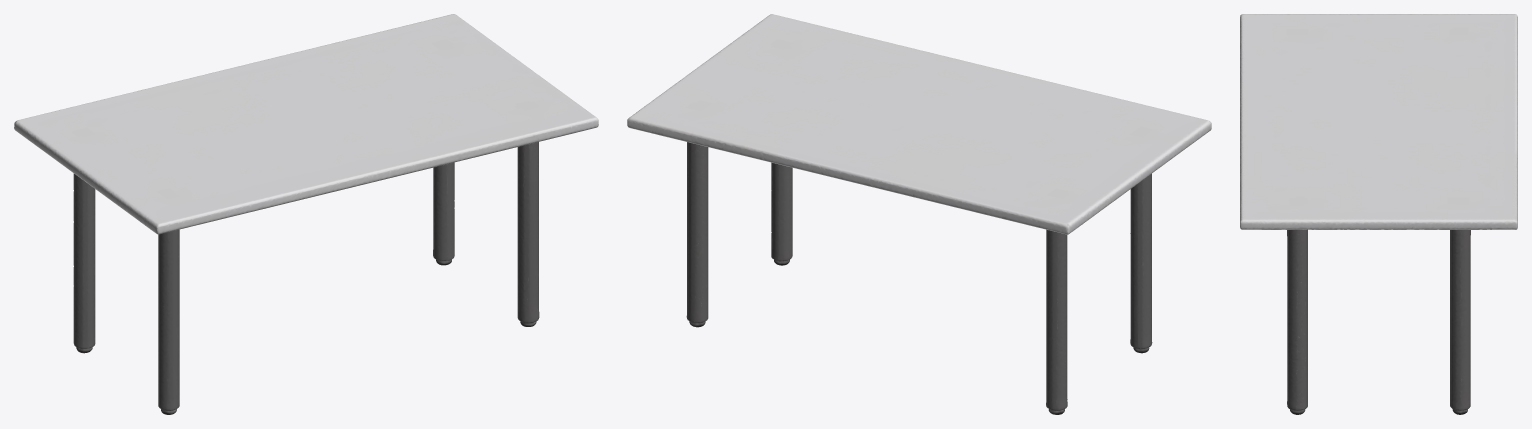
File: desk2.glb
3 renders of one model, left to right at view 1: azimuth 30°, elevation 25°; view 2: azimuth 150°, elevation 25°; view 3: azimuth 270°, elevation 25°, orthographic. The views are drawn at different scales.
Visible parts, largest first — view 1: world; view 2: world; view 3: world.
Boxes of the visible parts, left/top/right/bottom form: world: left=14, top=14, right=598, bottom=414; world: left=627, top=14, right=1211, bottom=414; world: left=1240, top=14, right=1517, bottom=414.
Bounding box in the file's own units: 1 × 0.4762 × 0.5666.
Materials: 1 (1 with a texture image).
